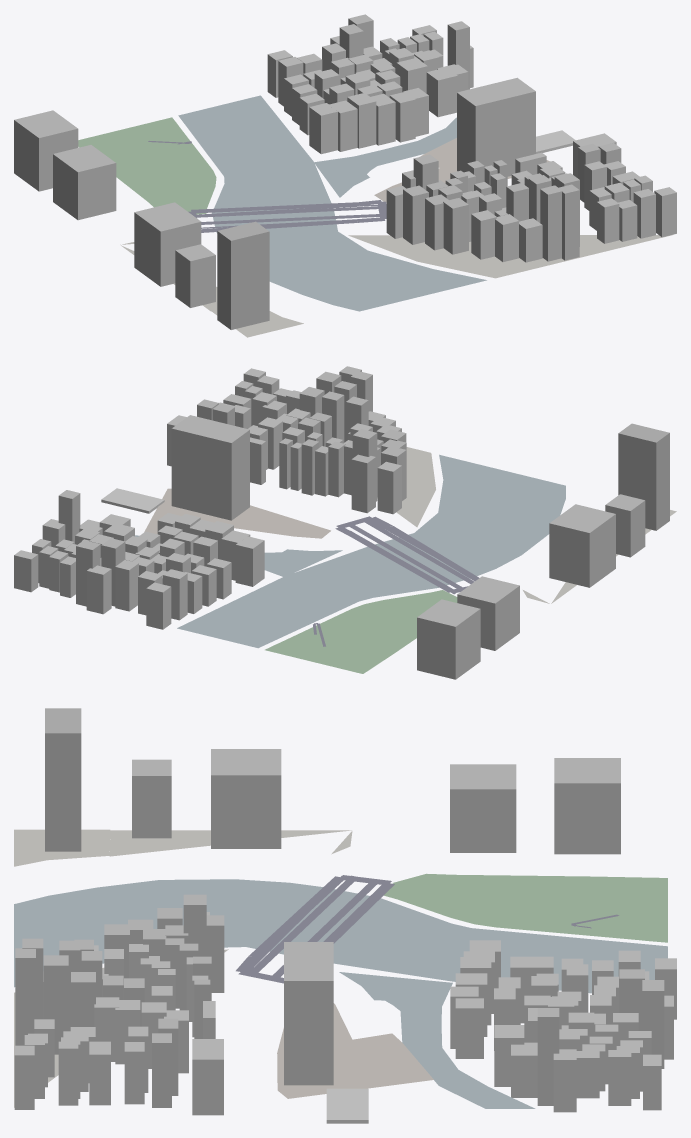
File: 121_76_mid.glb
3 renders of one model, top to bottom at view 1: azimuth 30°, elevation 25°; view 2: azimuth 150°, elevation 25°; view 3: azimuth 270°, elevation 25°, orthographic. The views are drawn at different scales.
Size of the model in its own units: 540 by 103 by 507.
